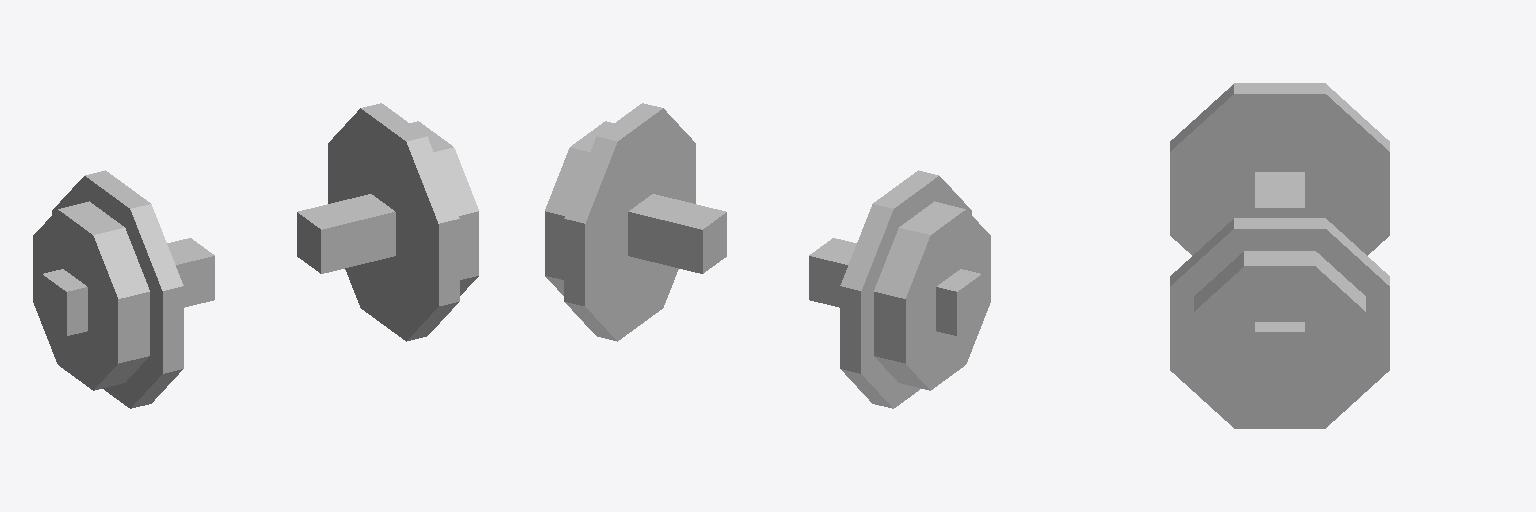
File: wheels.obj
3 views of the same model, side by side, from view 1: azimuth 30°, elevation 25°; view 2: azimuth 150°, elevation 25°; view 3: azimuth 270°, elevation 25° (orthographic).
Parts seen in each view (by area): view 1: 18x18_ALT_Cube.002_1, 18x18_ALT_Cube.002_0, cube_0, cube_1; view 2: 18x18_ALT_Cube.002_1, 18x18_ALT_Cube.002_0, cube_0, cube_1; view 3: 18x18_ALT_Cube.002_0, 18x18_ALT_Cube.002_1, cube_0, cube_1.
Part boxes in pixels (x1,y1,x2,y2): 18x18_ALT_Cube.002_1: (33, 170, 183, 408); 18x18_ALT_Cube.002_0: (328, 103, 478, 341); cube_0: (297, 194, 395, 273); cube_1: (42, 238, 214, 335); 18x18_ALT_Cube.002_1: (840, 170, 990, 408); 18x18_ALT_Cube.002_0: (545, 103, 695, 341); cube_0: (628, 194, 726, 273); cube_1: (809, 238, 981, 335); 18x18_ALT_Cube.002_0: (1170, 218, 1389, 428); 18x18_ALT_Cube.002_1: (1170, 83, 1389, 255); cube_0: (1255, 322, 1304, 376); cube_1: (1255, 172, 1304, 217).
Bounding box in the file's own units: 2.38 × 1.12 × 1.12.